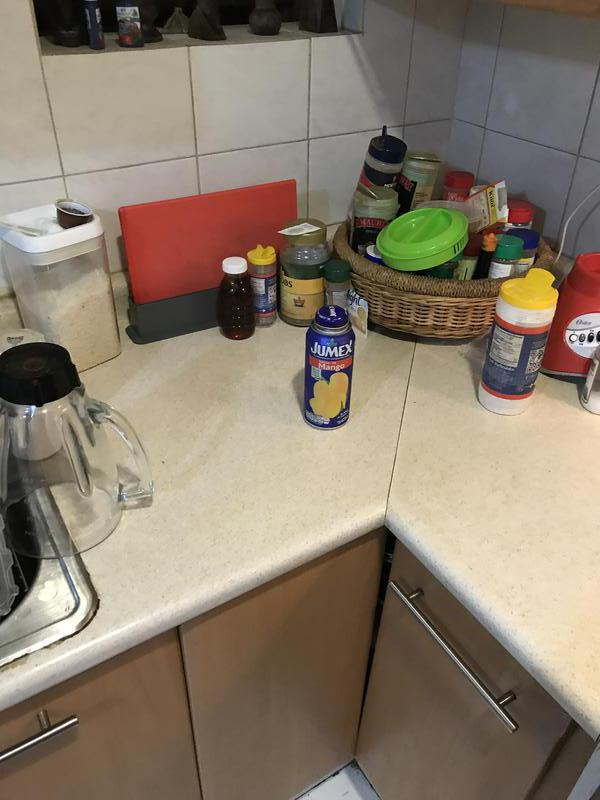jugo_jumex: (302, 305, 354, 429)
